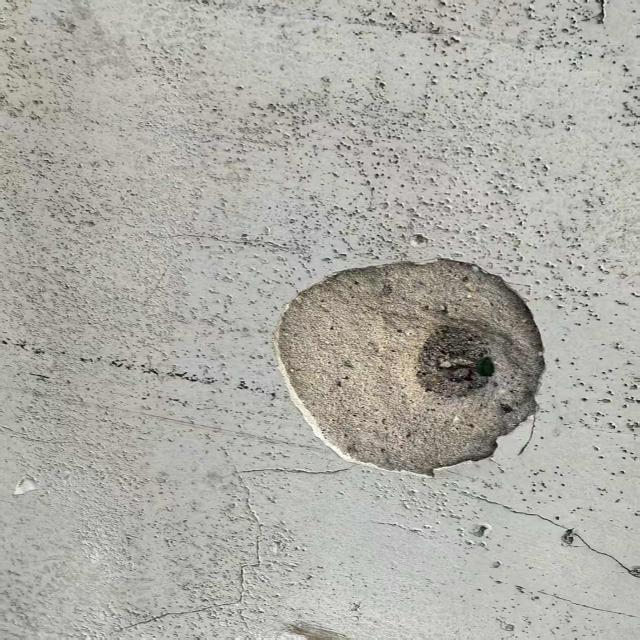spalling: (273, 260, 549, 478)
